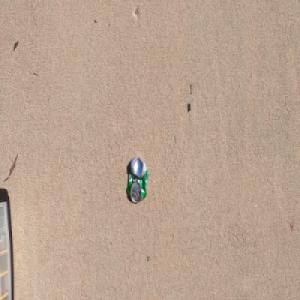SodaCan: (126, 155, 149, 204)
